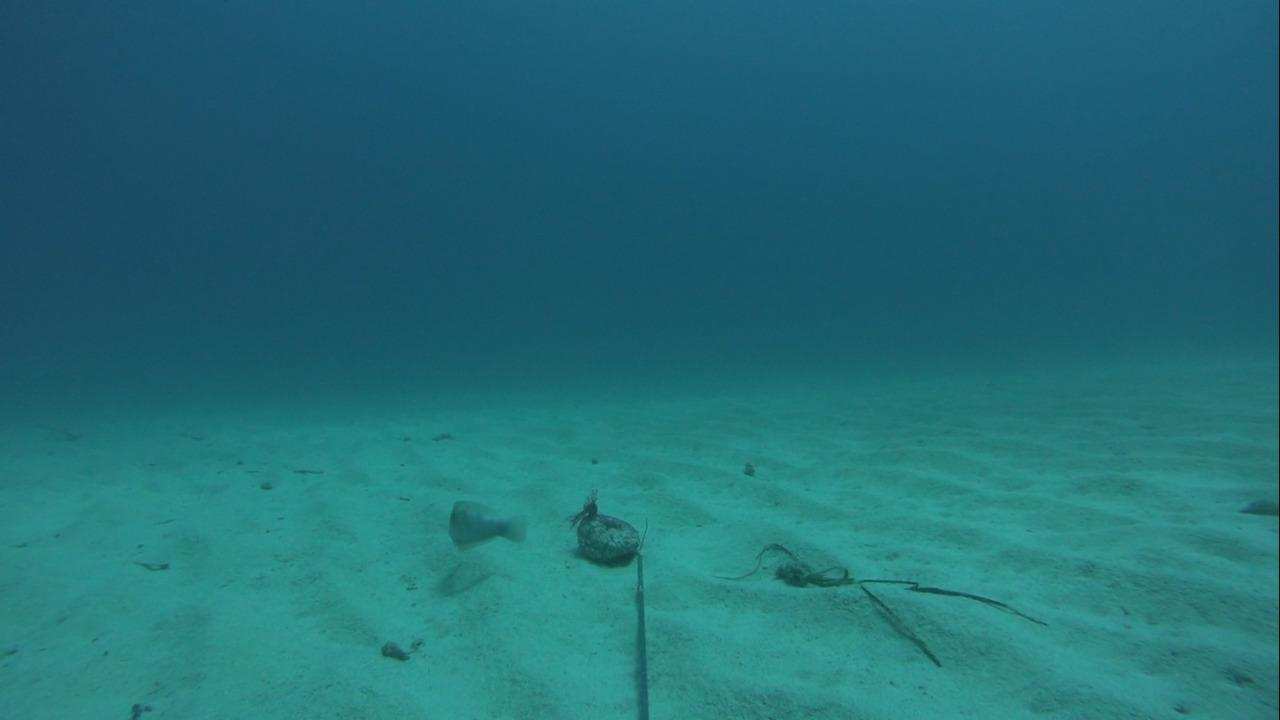raor: (439, 492, 533, 551)
